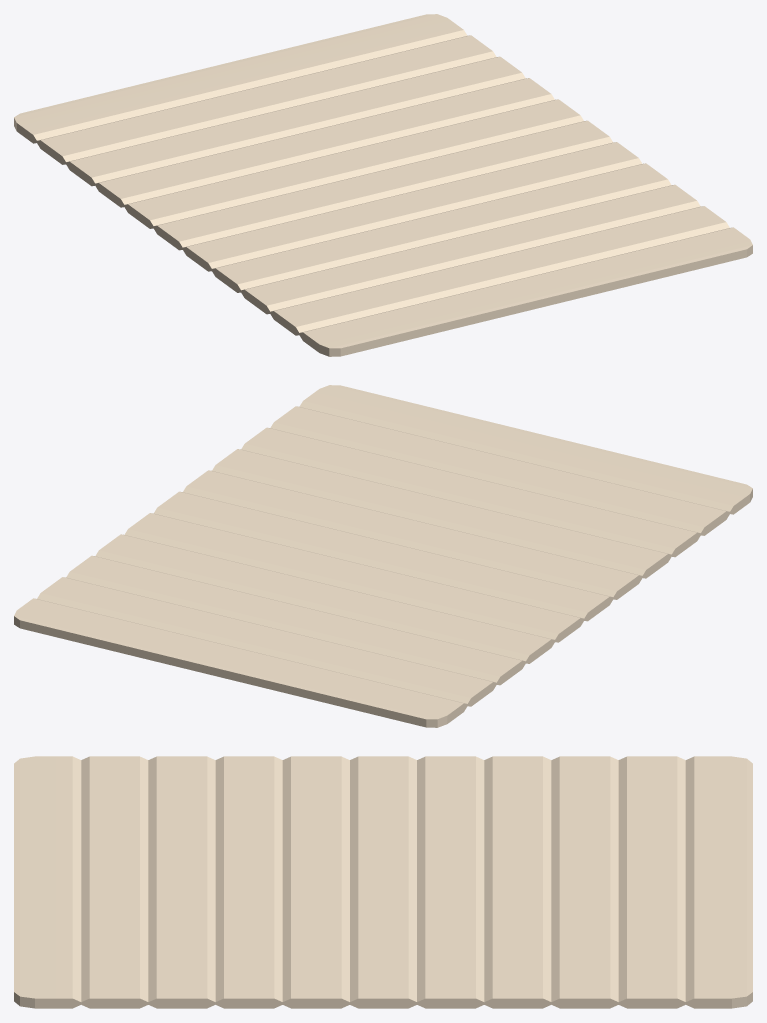
Rendered from placemat.fbx.
3 views of the same model, one above another, from view 1: azimuth 30°, elevation 25°; view 2: azimuth 150°, elevation 25°; view 3: azimuth 270°, elevation 25° (orthographic). The views are drawn at different scales.
Visible parts, largest first — view 1: kitchen_stuff.006; view 2: kitchen_stuff.006; view 3: kitchen_stuff.006.
Part boxes in pixels (box(x1,y1,x2,y2)): kitchen_stuff.006: box(14, 14, 752, 356); kitchen_stuff.006: box(14, 385, 752, 727); kitchen_stuff.006: box(14, 756, 752, 1008).
Size of the model in its own units: 45.4 by 0.8728 by 58.58.
